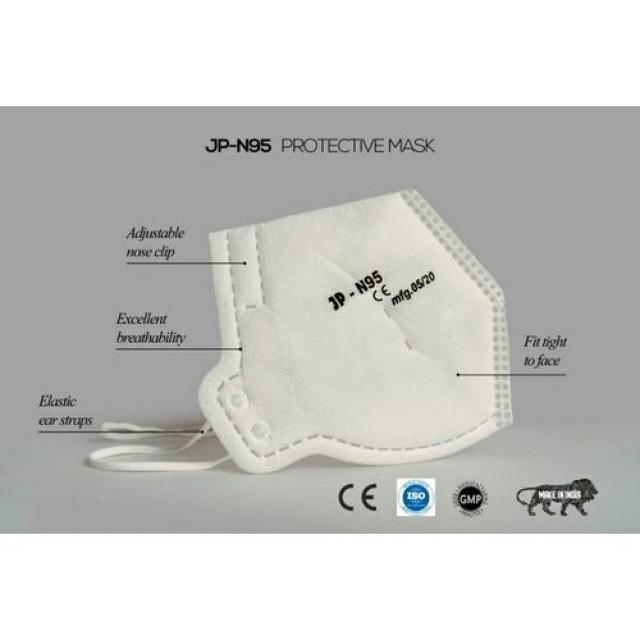non-organic waste: (83, 208, 524, 482)
